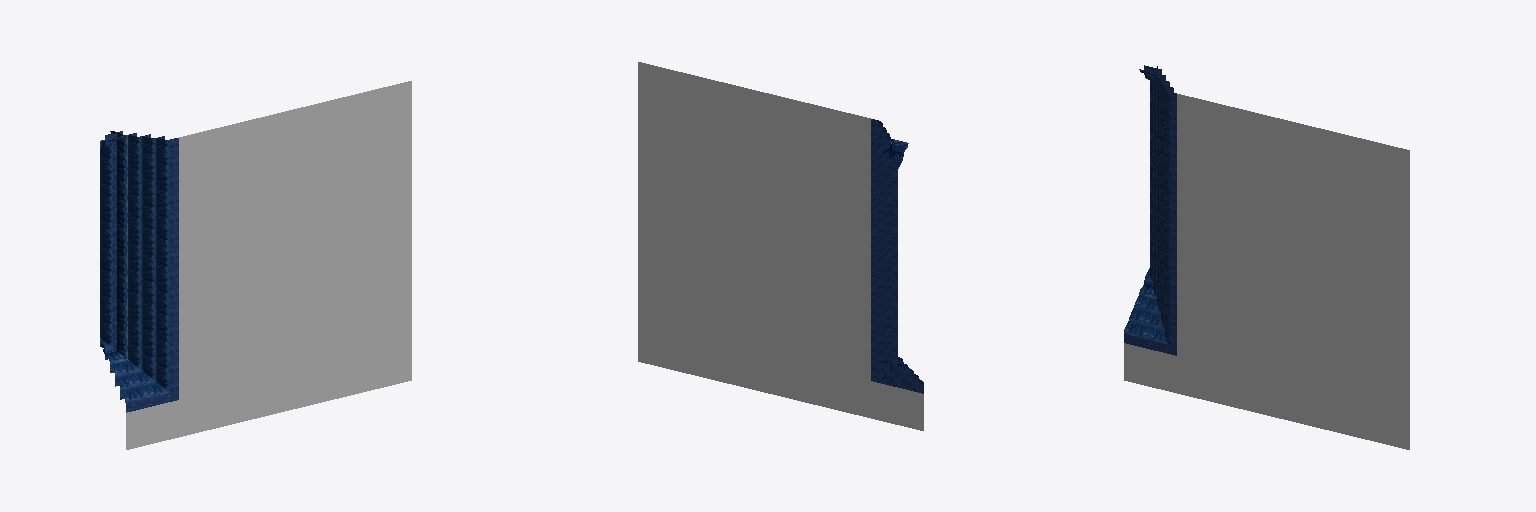
The picture shows the model from 3 angles: view 1: azimuth 30°, elevation 25°; view 2: azimuth 150°, elevation 25°; view 3: azimuth 330°, elevation 25°; orthographic projection.
Visible parts, largest first — view 1: map; view 2: map; view 3: map.
Part boxes in pixels (x1,y1,x2,y2): map: (100,81,411,449); map: (638,62,923,430); map: (1124,65,1409,449).
Bounding box in the file's own units: 32 × 32 × 5.
Materials: 5 (4 with a texture image).